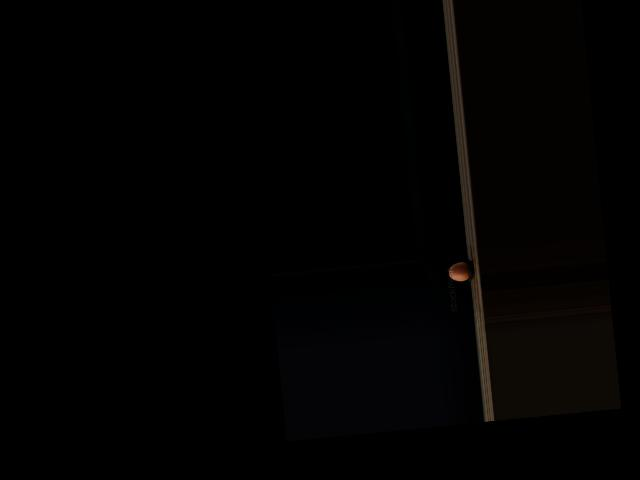egg: (447, 261, 470, 281)
